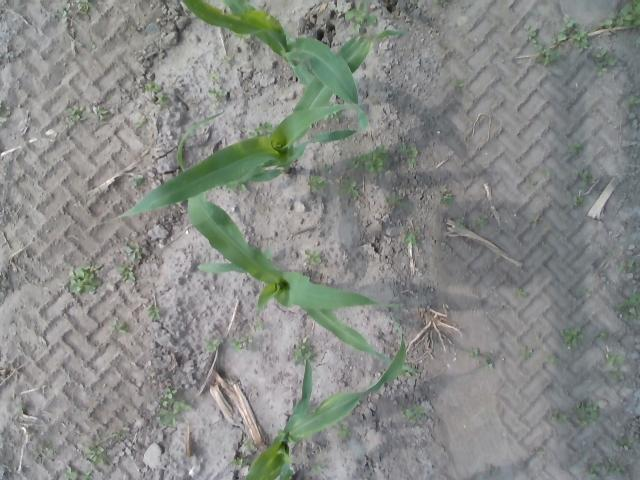Maize: (176, 111, 416, 371), (102, 30, 404, 224), (244, 315, 406, 480), (182, 0, 370, 131)
Weeds: (522, 24, 559, 66), (546, 398, 602, 425), (598, 0, 640, 34), (552, 16, 590, 53), (156, 386, 190, 426), (68, 264, 106, 295), (346, 0, 380, 33), (348, 144, 388, 172), (582, 458, 626, 480), (615, 290, 640, 322), (64, 102, 90, 132), (590, 48, 616, 77), (292, 336, 316, 366), (560, 325, 586, 349), (144, 81, 170, 105), (396, 144, 420, 168), (401, 398, 426, 420), (336, 178, 362, 199), (604, 351, 624, 378), (208, 86, 229, 111), (123, 236, 144, 260), (88, 441, 108, 463), (115, 263, 136, 283), (230, 334, 252, 352), (248, 121, 272, 137), (204, 333, 222, 354), (386, 191, 407, 209), (579, 166, 596, 188), (90, 106, 110, 124), (440, 184, 456, 206), (304, 249, 323, 267), (308, 175, 326, 194), (402, 230, 422, 246), (61, 465, 82, 480), (228, 456, 250, 470), (232, 30, 253, 44), (147, 304, 163, 322), (106, 320, 128, 333), (570, 194, 590, 208), (616, 434, 636, 448), (38, 441, 56, 456), (229, 182, 248, 196), (128, 174, 146, 188), (618, 260, 636, 274), (482, 347, 494, 368), (60, 3, 72, 24), (334, 424, 351, 438), (518, 346, 536, 359), (0, 100, 9, 125), (526, 176, 540, 192), (242, 436, 258, 450), (135, 116, 151, 130), (74, 0, 88, 15), (486, 464, 502, 477), (626, 92, 640, 106), (472, 216, 488, 228), (311, 460, 324, 474), (250, 320, 265, 332), (104, 431, 122, 441), (470, 346, 482, 360), (205, 70, 220, 81), (570, 141, 582, 154), (16, 403, 30, 414), (323, 113, 342, 120), (544, 353, 556, 364), (516, 286, 529, 296), (456, 216, 466, 229), (530, 214, 542, 224), (536, 446, 546, 458), (82, 470, 94, 480), (456, 78, 466, 89), (599, 330, 609, 340), (0, 364, 10, 374), (544, 190, 552, 200), (581, 287, 589, 297), (220, 55, 230, 62), (90, 42, 98, 50), (434, 0, 448, 4), (544, 169, 550, 178), (635, 38, 640, 44)
